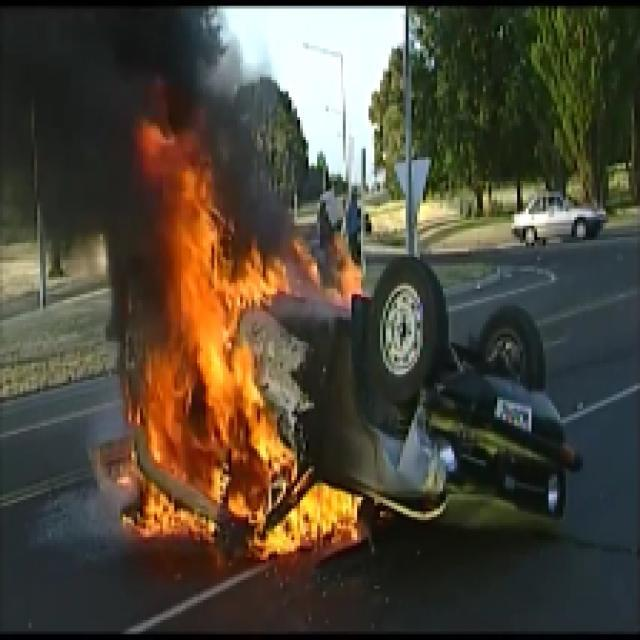Fire: (127, 368, 355, 568), (151, 144, 221, 358)
Smoke: (6, 18, 132, 208), (153, 11, 211, 84)
